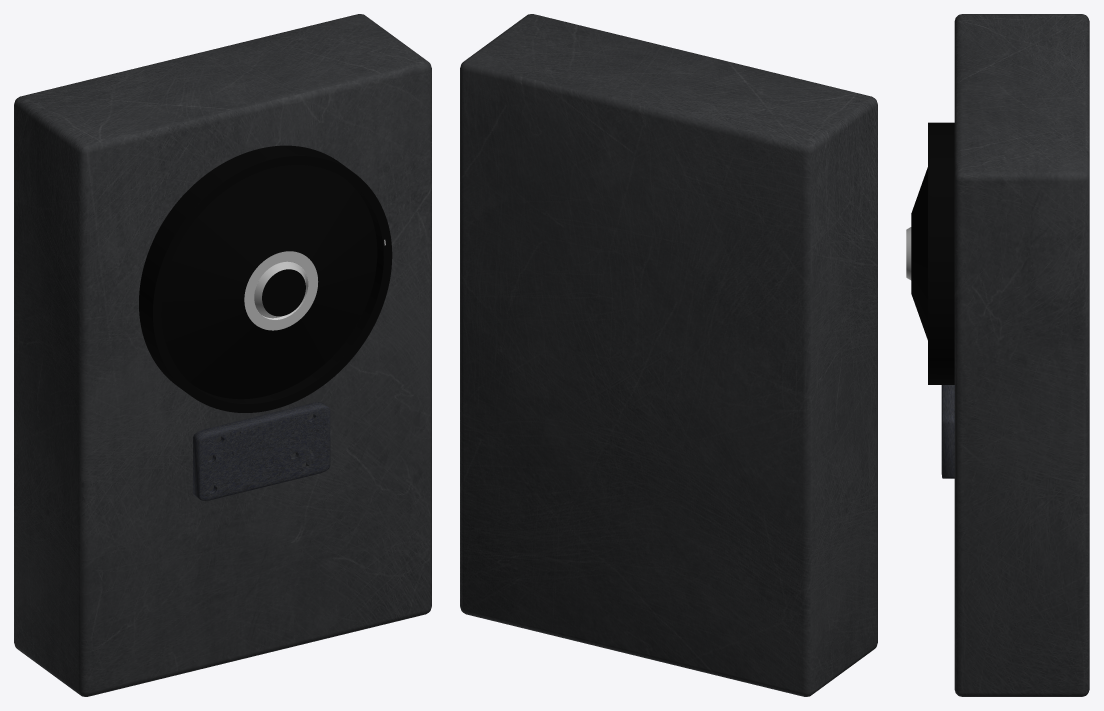
File: INS_MICO.fbx
The picture shows the model from 3 angles, left to right: view 1: azimuth 30°, elevation 25°; view 2: azimuth 150°, elevation 25°; view 3: azimuth 270°, elevation 25°; orthographic projection. The views are drawn at different scales.
Parts seen in each view (by area): view 1: INS_MICO; view 2: INS_MICO; view 3: INS_MICO.
Part boxes in pixels (x1=…): INS_MICO: x1=14, y1=14, x2=431, y2=696; INS_MICO: x1=460, y1=14, x2=877, y2=696; INS_MICO: x1=906, y1=14, x2=1089, y2=696.
Bounding box in the file's own units: 10 × 15 × 4.75.
